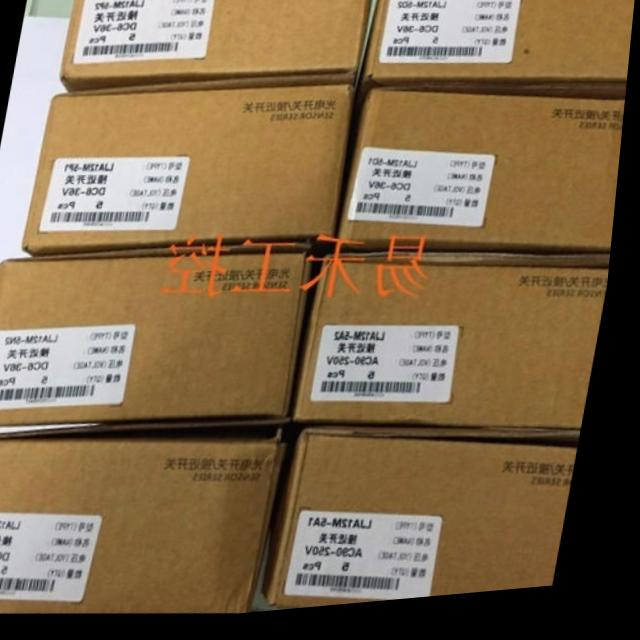box: (299, 261, 616, 442), (274, 433, 589, 614), (0, 425, 296, 616), (27, 90, 357, 257), (0, 258, 319, 426), (335, 96, 628, 265), (352, 0, 637, 126), (60, 0, 373, 96)
